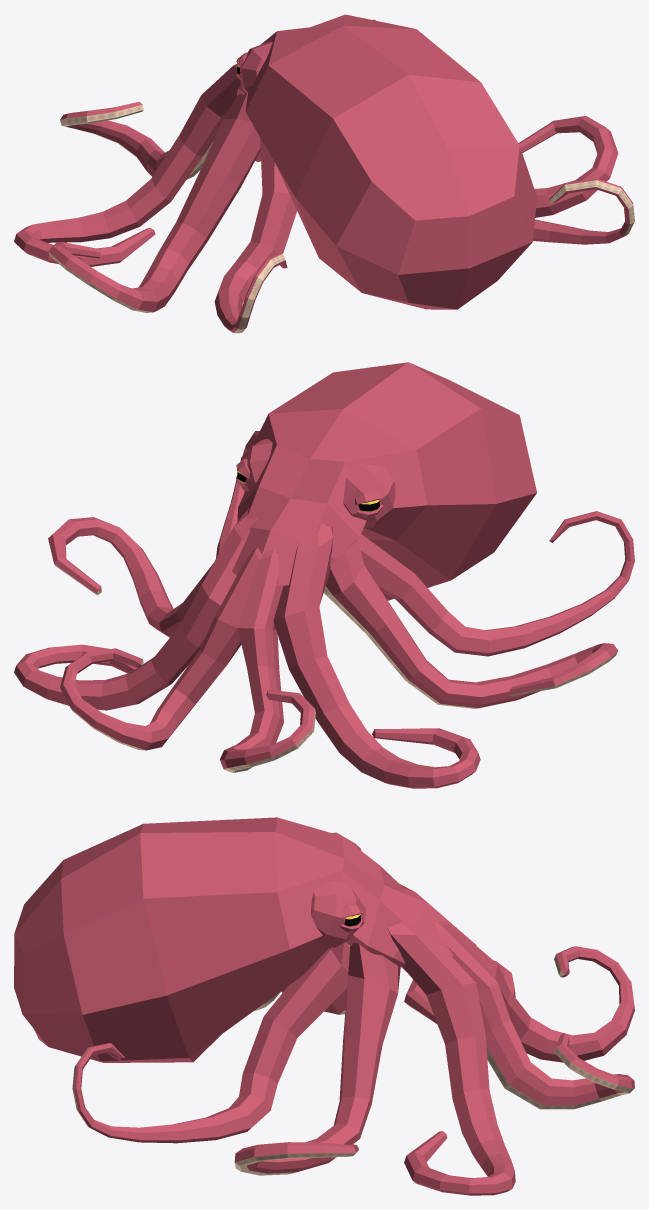
File: Octopus.fbx
3 renders of one model, top to bottom at view 1: azimuth 30°, elevation 25°; view 2: azimuth 150°, elevation 25°; view 3: azimuth 270°, elevation 25°, orthographic. The views are drawn at different scales.
Visible parts, largest first — view 1: octopus; view 2: octopus; view 3: octopus.
Part boxes in pixels (x1,y1,x2,y2): octopus: (14, 14, 634, 333); octopus: (14, 362, 634, 788); octopus: (14, 817, 634, 1195).
Size of the model in its own units: 0.6706 by 0.3002 by 0.6363.
